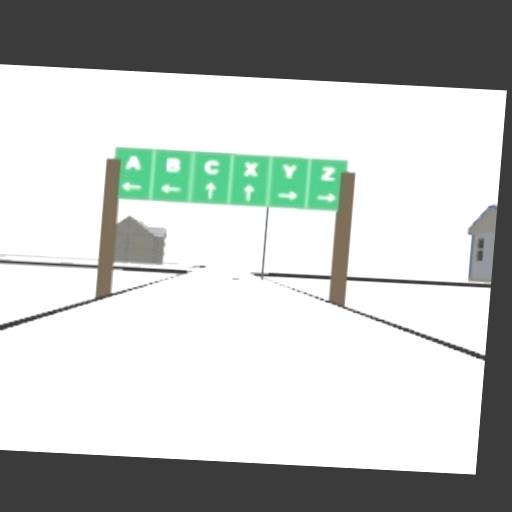A: (124, 155, 142, 172)
B: (165, 157, 181, 175)
C: (203, 158, 220, 175)
Left: (120, 180, 142, 193), (160, 184, 182, 196)
Right: (277, 189, 297, 202), (316, 192, 336, 204)
Straight: (203, 181, 218, 201), (242, 183, 255, 202)
X: (243, 161, 259, 178)
Y: (281, 163, 297, 180)
Z: (320, 166, 337, 182)
